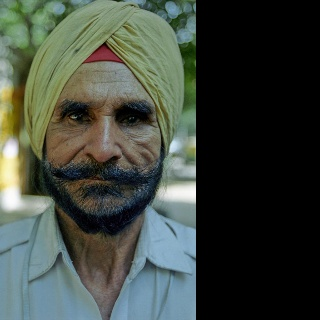without_mask: (39, 62, 165, 231)
